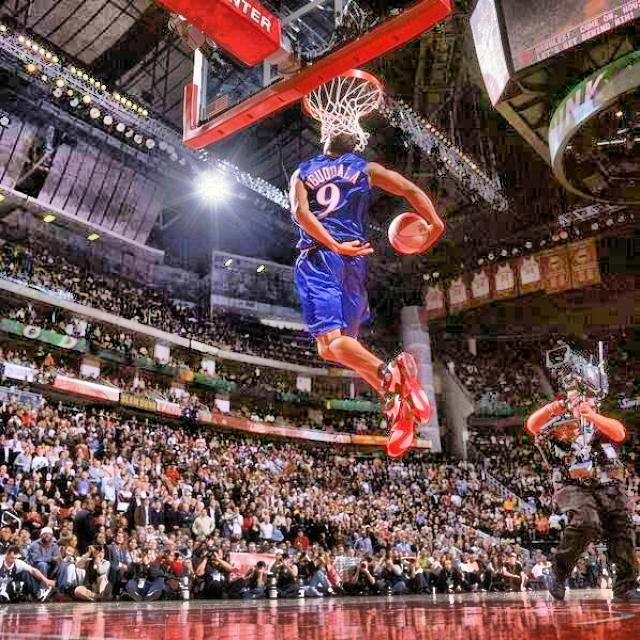board: (388, 212, 427, 254)
rim: (302, 70, 383, 136)
